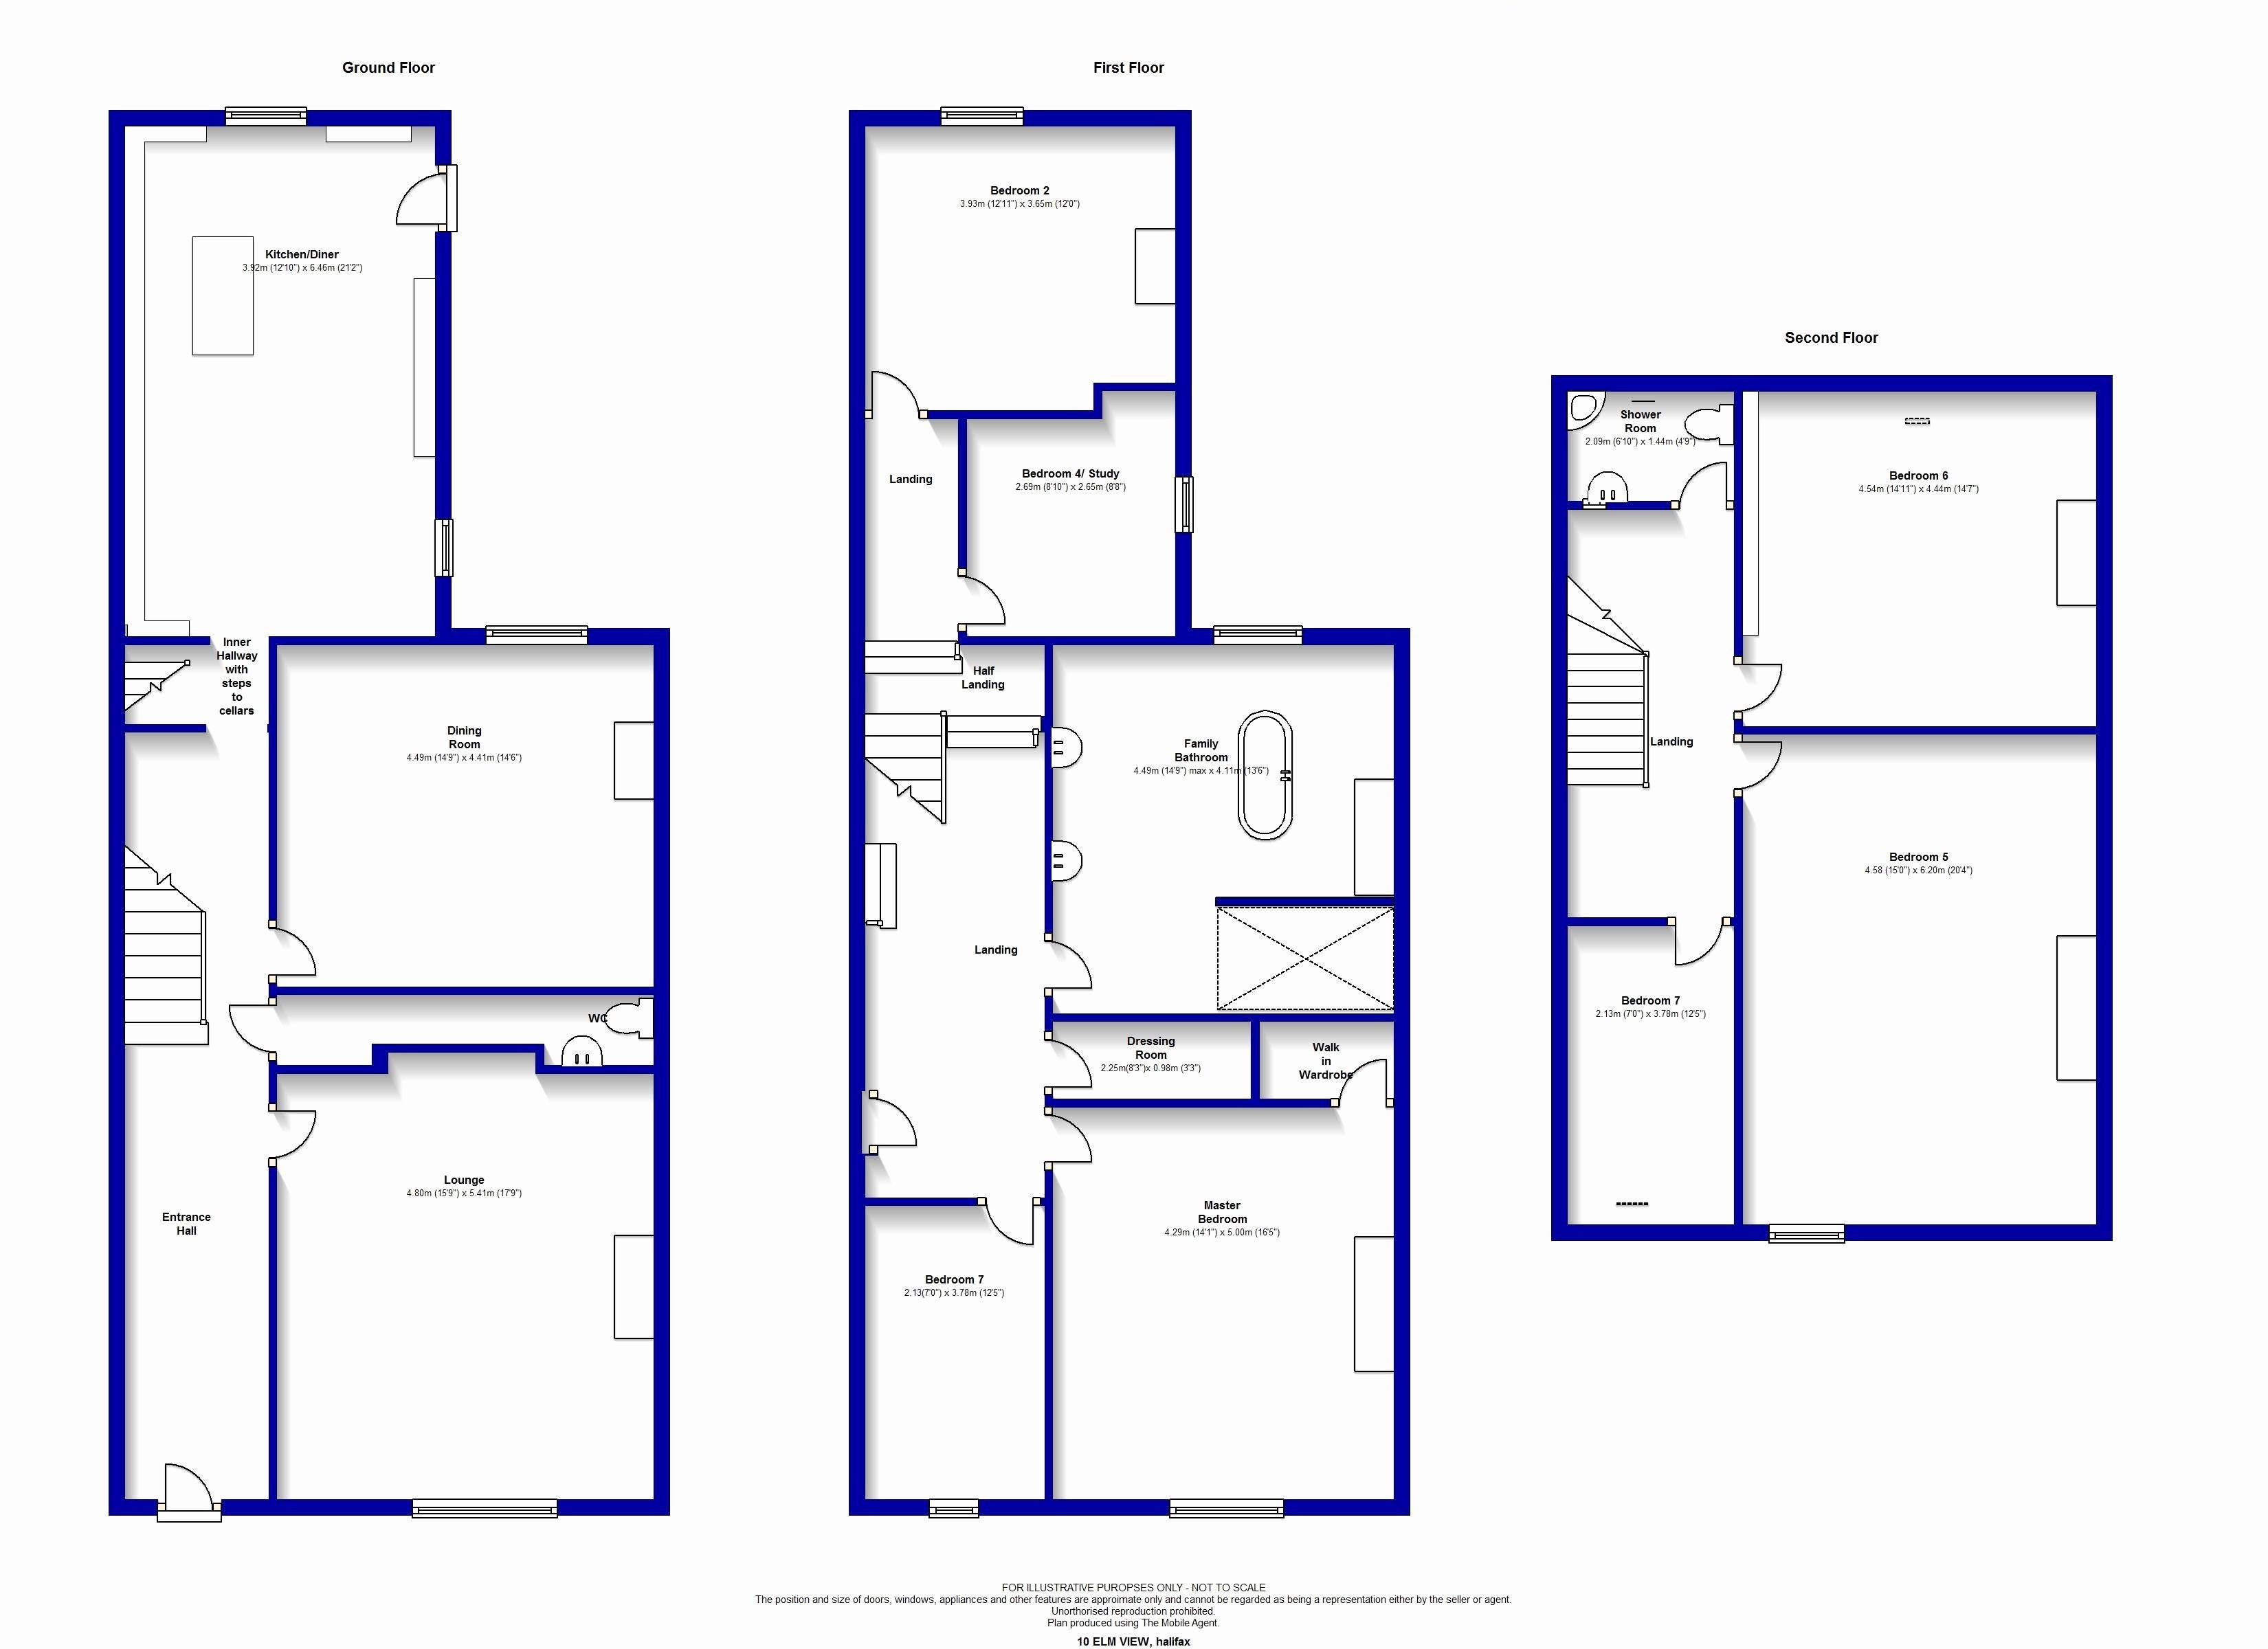door: (386, 169, 437, 227), (278, 922, 329, 980), (879, 1091, 928, 1151), (1057, 938, 1106, 996), (981, 1207, 1039, 1255), (1669, 929, 1727, 975), (965, 574, 1011, 630), (870, 363, 923, 408), (278, 1107, 322, 1162), (1053, 1112, 1097, 1167), (1745, 662, 1789, 716), (1678, 454, 1733, 498), (1053, 1040, 1099, 1091), (1745, 737, 1789, 790), (162, 1457, 215, 1498), (227, 1003, 268, 1056), (1338, 1054, 1388, 1096)
